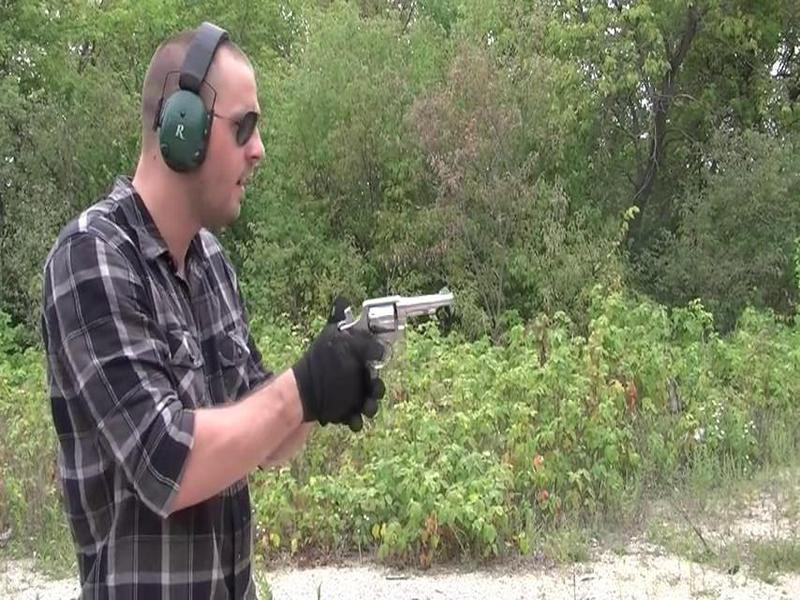Revolver: (330, 284, 463, 376)
